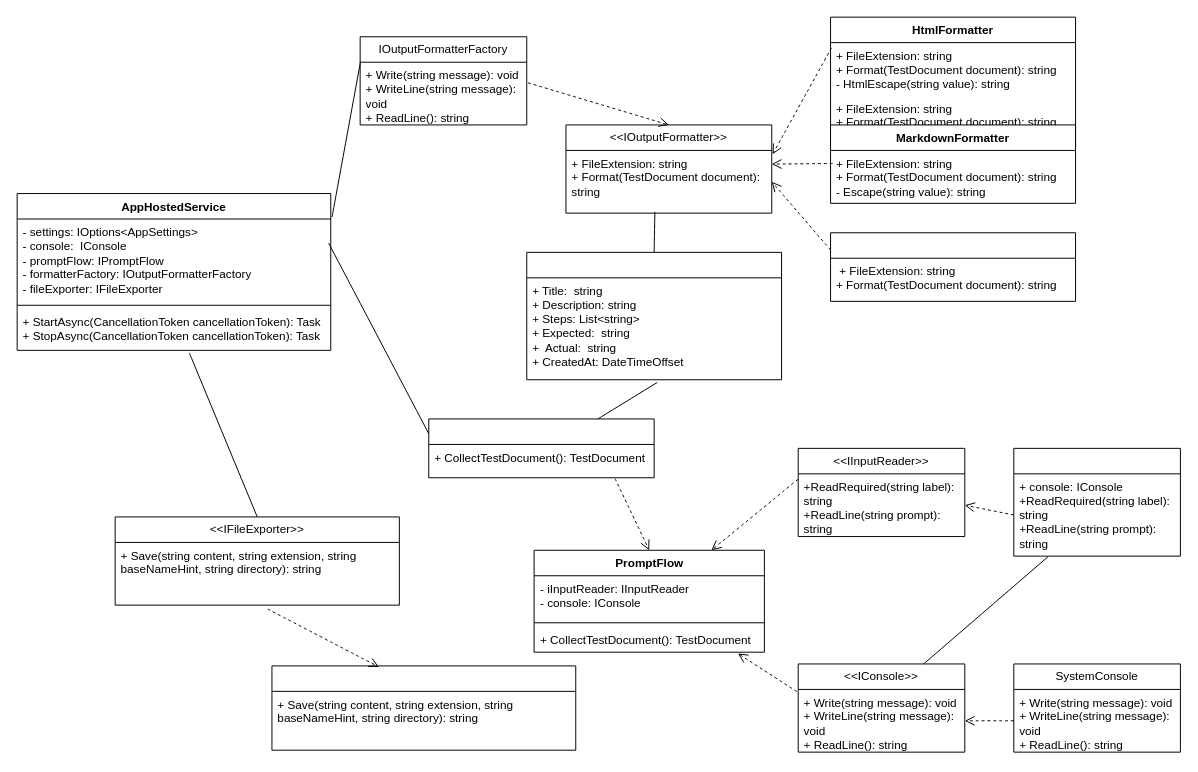
Some shapes in this 1198 by 772 pixel diagram are drawn without their labels. The shapes that lost their labels are listed below. From the top down, each one's box as (x1, y1, x2, y2) in pixels, then its label:
(830, 232, 1076, 301): PlainConsoleFormatter
(526, 251, 782, 380): TestDocument
(428, 418, 654, 478): <<IPromptFlow>>
(1013, 447, 1180, 556): ConsoleInputReader
(271, 665, 576, 750): FileExporter
